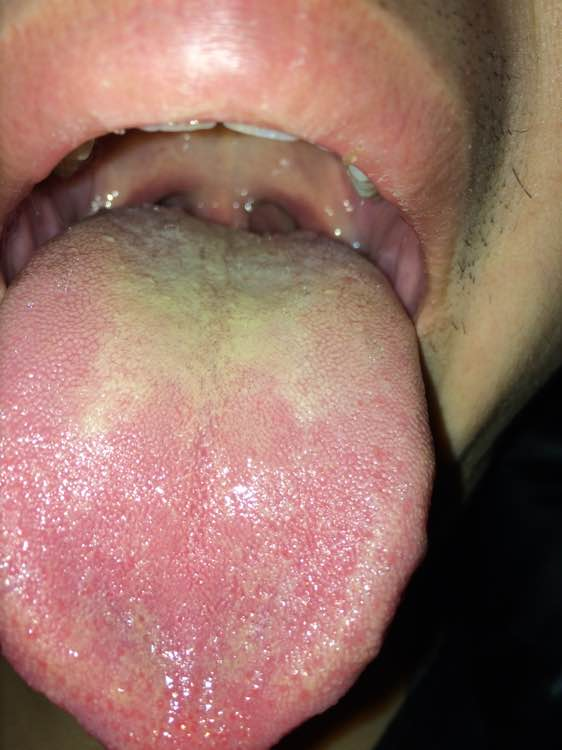hongdianshe: (82, 608, 274, 743)
hongshe: (1, 205, 432, 750)
huangtaishe: (1, 205, 433, 750)
